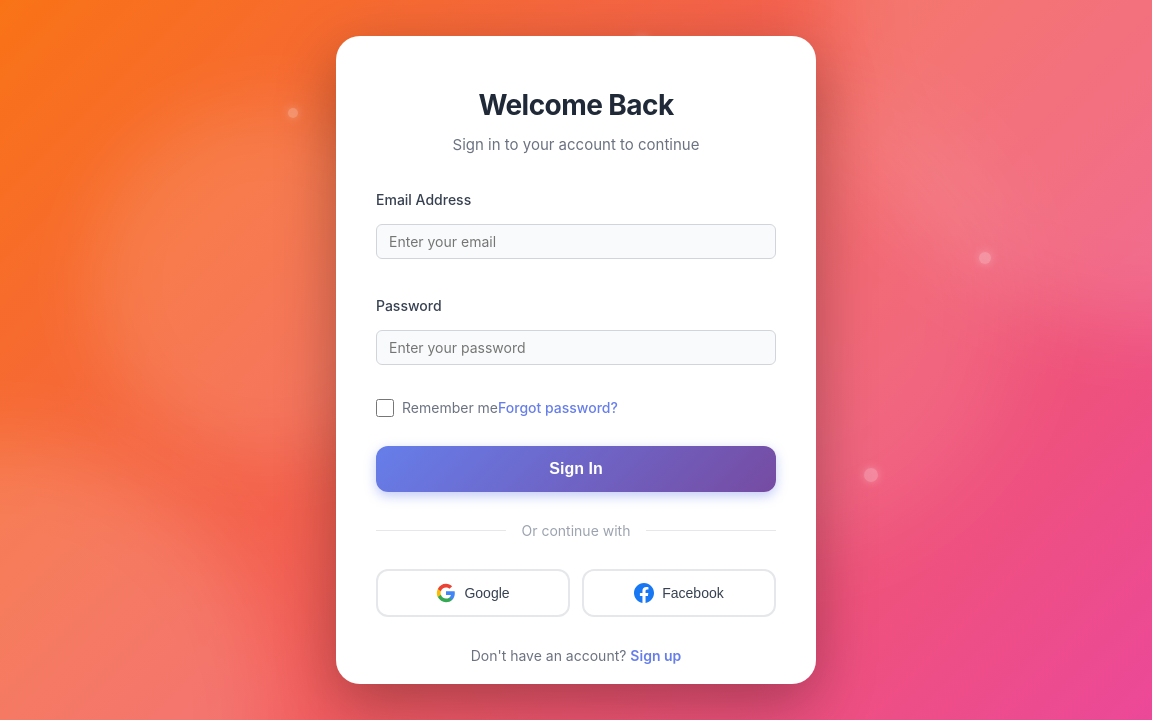
Login › shows validation errors for empty submit
Click the button "Sign In": {"x": 576, "y": 468} [376,446,776,492]
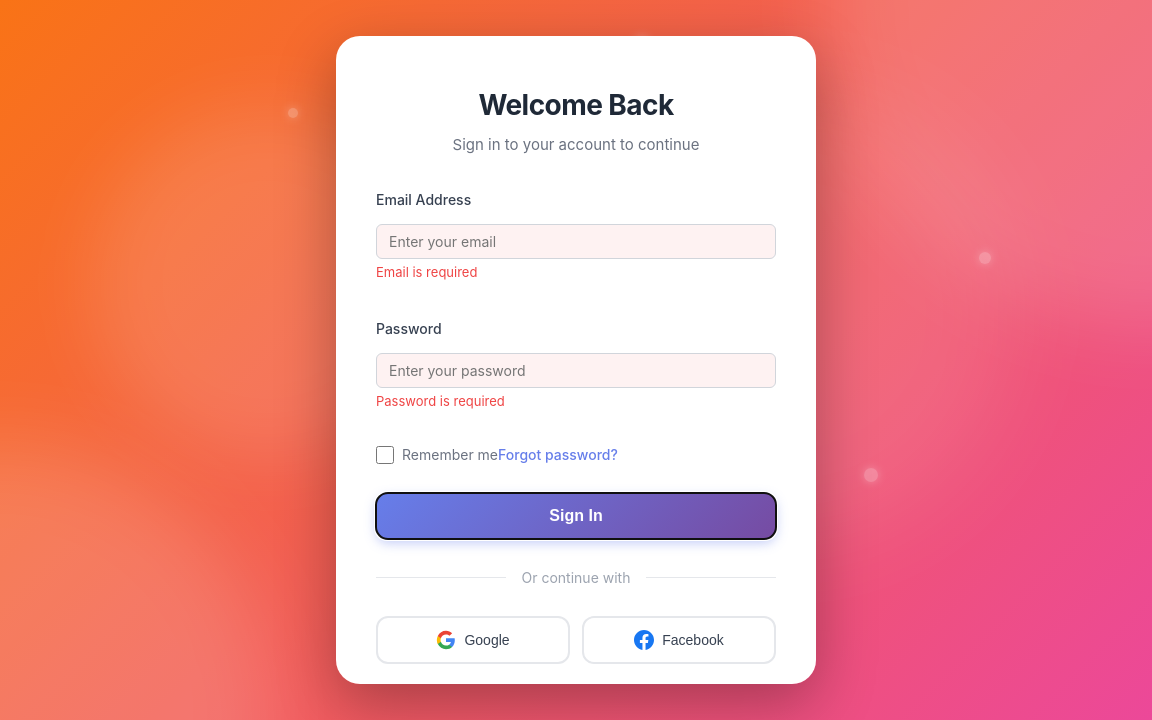
Expected: the text "Email is required" is shown, [376,264,477,280]
Expected: the text "Password is required" is shown, [376,393,505,409]
